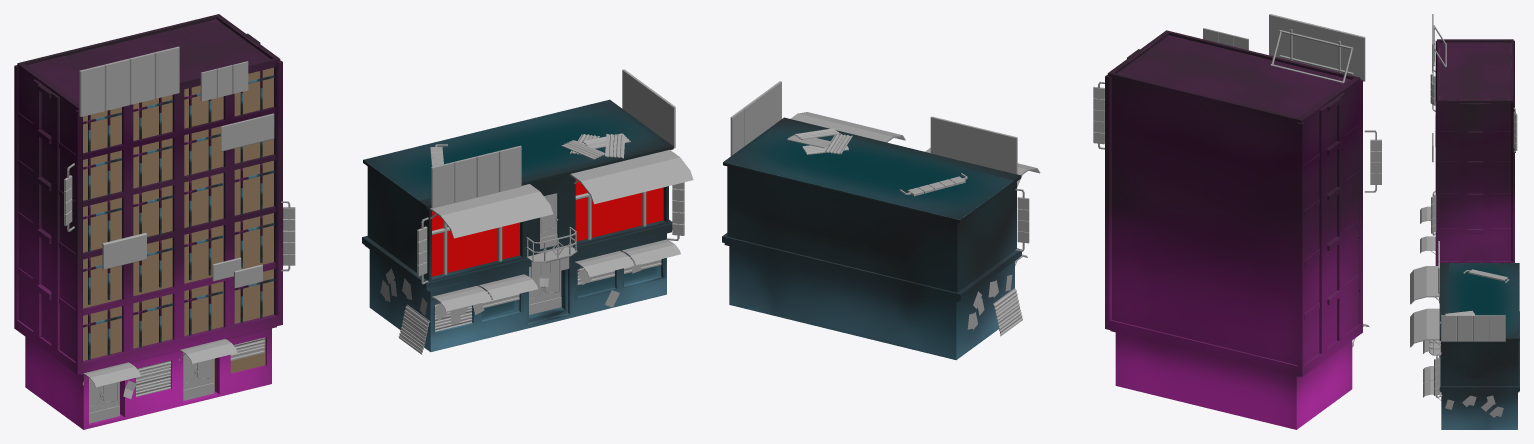
File: Building12 1.fbx
3 views of the same model, side by side, from view 1: azimuth 30°, elevation 25°; view 2: azimuth 150°, elevation 25°; view 3: azimuth 270°, elevation 25° (orthographic). The views are drawn at different scales.
Parts seen in each view (by area): view 1: polySurface1198, pasted__pCube571; view 2: polySurface1198, pasted__pCube571; view 3: polySurface1198, pasted__pCube571.
Part boxes in pixels (x1,y1,x2,y2): polySurface1198: [14, 14, 295, 429]; pasted__pCube571: [362, 69, 693, 354]; polySurface1198: [1093, 14, 1381, 429]; pasted__pCube571: [722, 81, 1040, 360]; polySurface1198: [1420, 14, 1517, 302]; pasted__pCube571: [1410, 241, 1519, 429].
Bounding box in the file's own units: 936 × 537 × 228.
